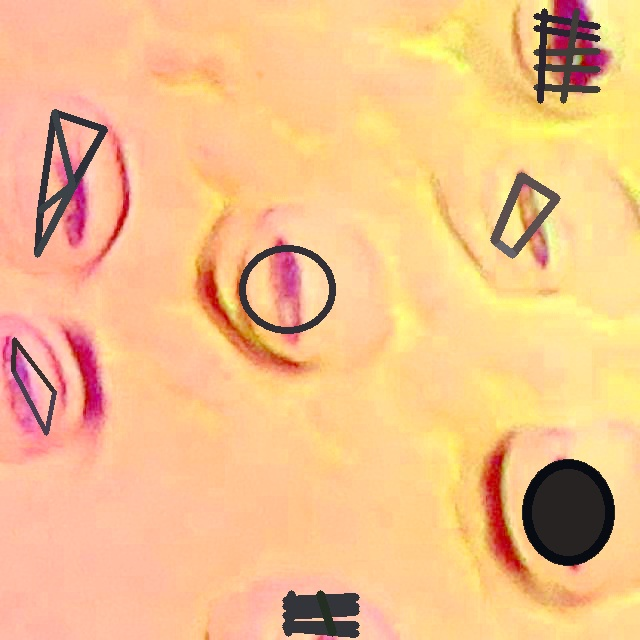open: (38, 110, 107, 257), (522, 459, 613, 566), (239, 245, 336, 332), (533, 8, 600, 103), (490, 173, 560, 258), (11, 337, 56, 435), (282, 590, 359, 636)
